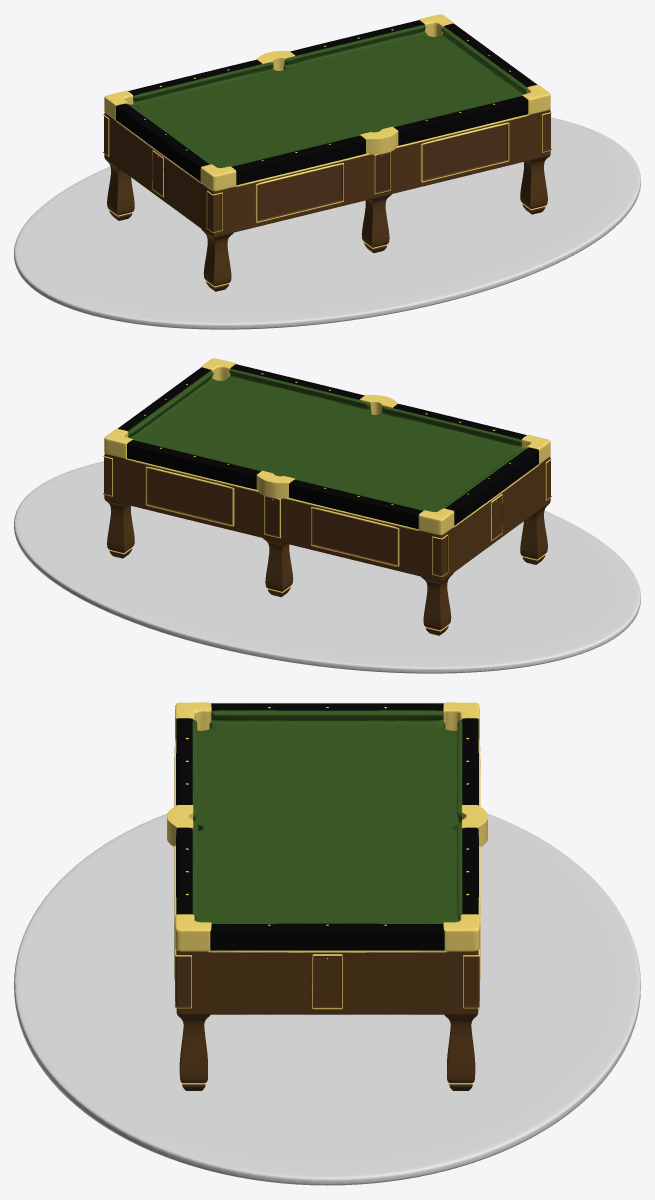
File: PoolTableErgasia3.fbx
3 views of the same model, one above another, from view 1: azimuth 30°, elevation 25°; view 2: azimuth 150°, elevation 25°; view 3: azimuth 270°, elevation 25° (orthographic). The views are drawn at different scales.
Visible parts, largest first — view 1: Circle, Cube, Cube.001, Cube.004, Cube.002, Cube.003, Cube.006; view 2: Circle, Cube, Cube.001, Cube.004, Cube.002, Cube.003, Cube.006; view 3: Circle, Cube, Cube.001, Cube.004, Cube.003, Cube.002.
Part boxes in pixels (left/top/right/bottom): Circle: left=14, top=117, right=640, bottom=329; Cube: left=128, top=25, right=526, bottom=167; Cube.001: left=103, top=109, right=551, bottom=237; Cube.004: left=116, top=20, right=537, bottom=185; Cube.002: left=104, top=155, right=549, bottom=291; Cube.003: left=104, top=14, right=550, bottom=191; Cube.006: left=361, top=194, right=391, bottom=253; Circle: left=14, top=461, right=640, bottom=673; Cube: left=128, top=369, right=526, bottom=511; Cube.001: left=103, top=453, right=551, bottom=581; Cube.004: left=117, top=364, right=538, bottom=529; Cube.002: left=105, top=499, right=550, bottom=635; Cube.003: left=104, top=358, right=550, bottom=535; Cube.006: left=263, top=538, right=293, bottom=597; Circle: left=14, top=813, right=640, bottom=1185; Cube: left=192, top=710, right=462, bottom=923; Cube.001: left=174, top=738, right=480, bottom=1014; Cube.004: left=176, top=703, right=478, bottom=950; Cube.003: left=167, top=702, right=487, bottom=951; Cube.002: left=177, top=1014, right=477, bottom=1090.
Bounding box in the file's own units: 781 × 161 × 525.
